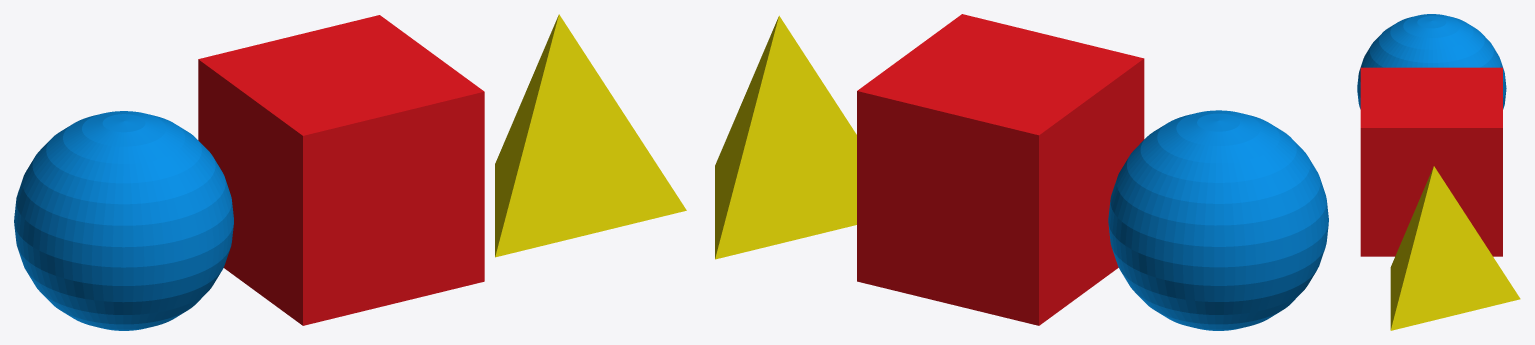
Rendered from stn.gltf.
3 views of the same model, side by side, from view 1: azimuth 30°, elevation 25°; view 2: azimuth 150°, elevation 25°; view 3: azimuth 270°, elevation 25° (orthographic). The views are drawn at different scales.
Visible parts, largest first — view 1: Cube, Sphere, Cone; view 2: Cube, Sphere, Cone; view 3: Cube, Cone, Sphere.
Boxes of the visible parts, left/top/right/bottom form: Cube: left=198, top=15, right=484, bottom=325; Sphere: left=14, top=111, right=233, bottom=330; Cone: left=495, top=14, right=686, bottom=257; Cube: left=857, top=14, right=1144, bottom=325; Sphere: left=1108, top=110, right=1328, bottom=330; Cone: left=715, top=15, right=856, bottom=259; Cube: left=1360, top=67, right=1502, bottom=256; Cone: left=1390, top=166, right=1520, bottom=330; Sphere: left=1357, top=14, right=1506, bottom=109.
Bounding box in the file's own units: 6.92 × 2.1 × 2.3.
